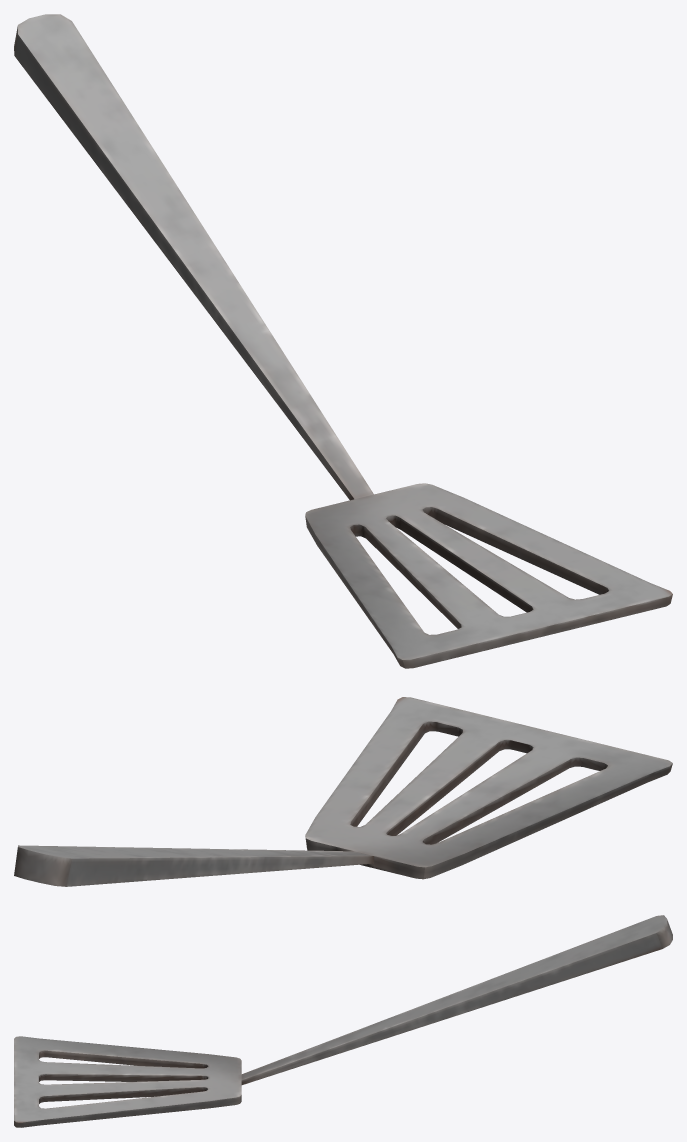
File: SM_Spatule.fbx
3 renders of one model, top to bottom at view 1: azimuth 30°, elevation 25°; view 2: azimuth 150°, elevation 25°; view 3: azimuth 270°, elevation 25°, orthographic. The views are drawn at different scales.
Parts seen in each view (by area): view 1: SM_Spatule_LOD0; view 2: SM_Spatule_LOD0; view 3: SM_Spatule_LOD0.
Part boxes in pixels (x1,y1,x2,y2): SM_Spatule_LOD0: (14, 14, 672, 668); SM_Spatule_LOD0: (14, 697, 672, 886); SM_Spatule_LOD0: (14, 915, 672, 1127).
Bounding box in the file's own units: 13.11 × 42.24 × 11.64.
1 material, 1 textured.
